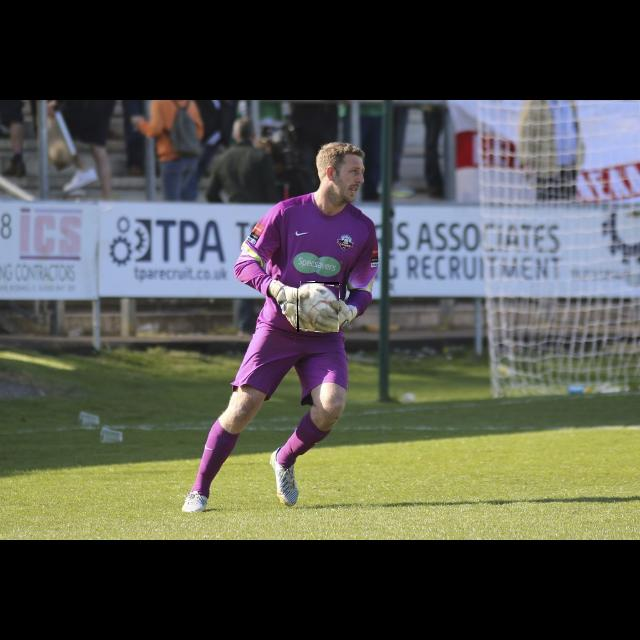Football: (297, 282, 339, 332)
